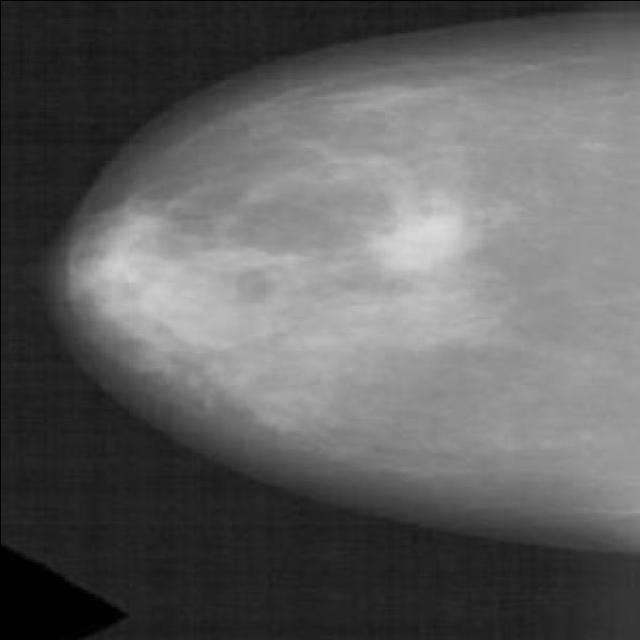tumor: (72, 200, 248, 382), (339, 206, 480, 306)
